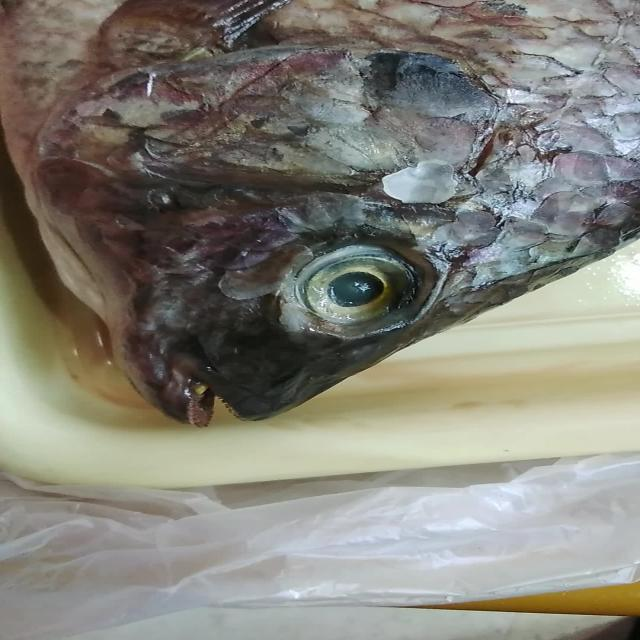Non-Fresh: (33, 2, 612, 224), (271, 234, 452, 340)
